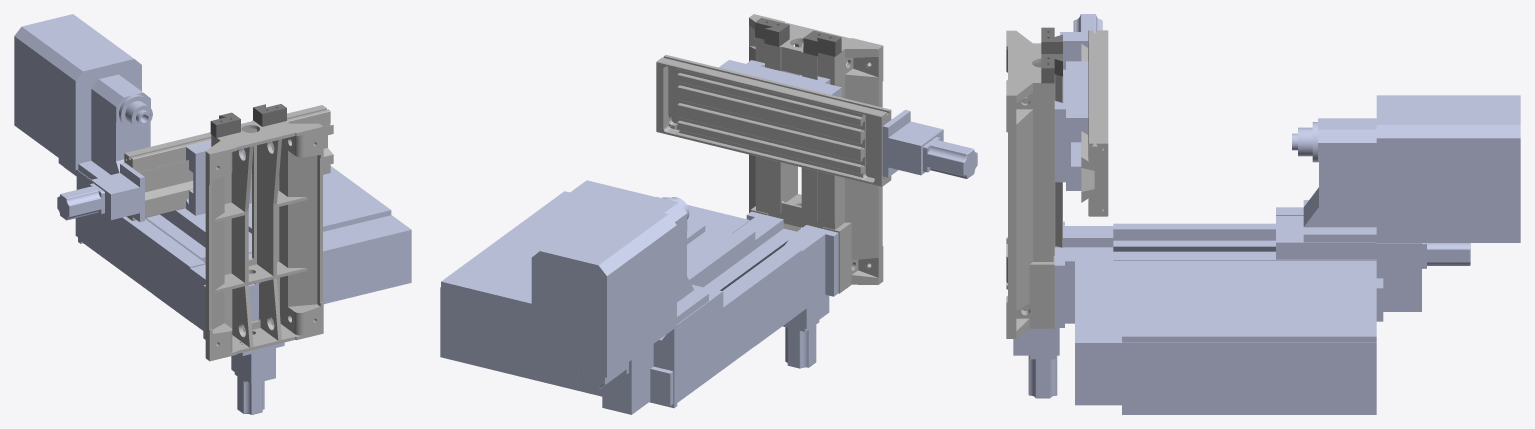
The model's file is model3dtormach1100cnc.glb.
3 views of the same model, side by side, from view 1: azimuth 30°, elevation 25°; view 2: azimuth 150°, elevation 25°; view 3: azimuth 270°, elevation 25° (orthographic). The views are drawn at different scales.
Size of the model in its own units: 1.39 by 1.13 by 1.54.
